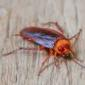cockroach: (18, 26, 74, 60)
